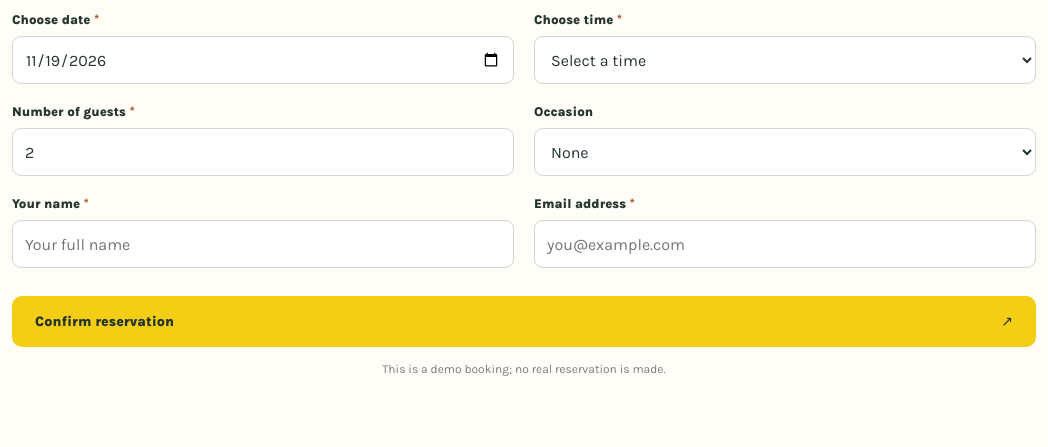
Test: BookingForm › rejects invalid email
Step 1. Type "invalid" into the field labelled "Email address *" → (785, 244), box [534,220,1036,268]
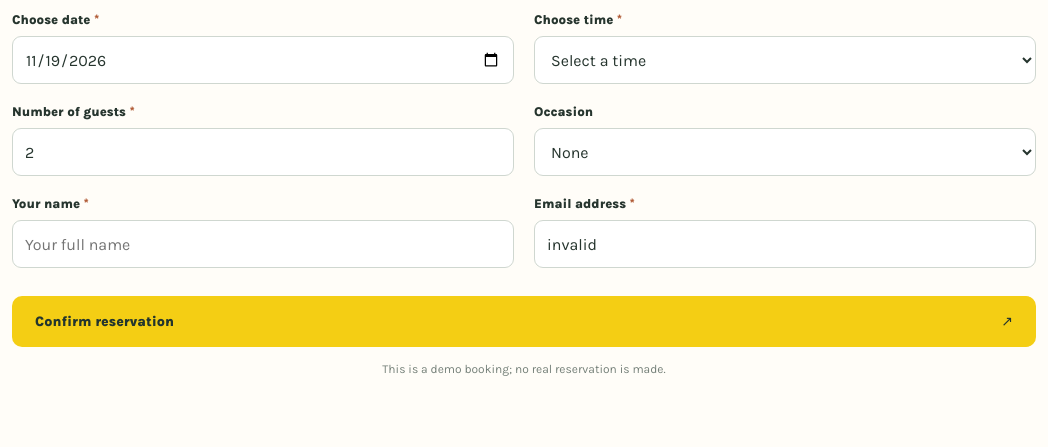
Step 2. Click the button "Confirm reservation ↗" → (105, 322), box [12,296,1036,347]
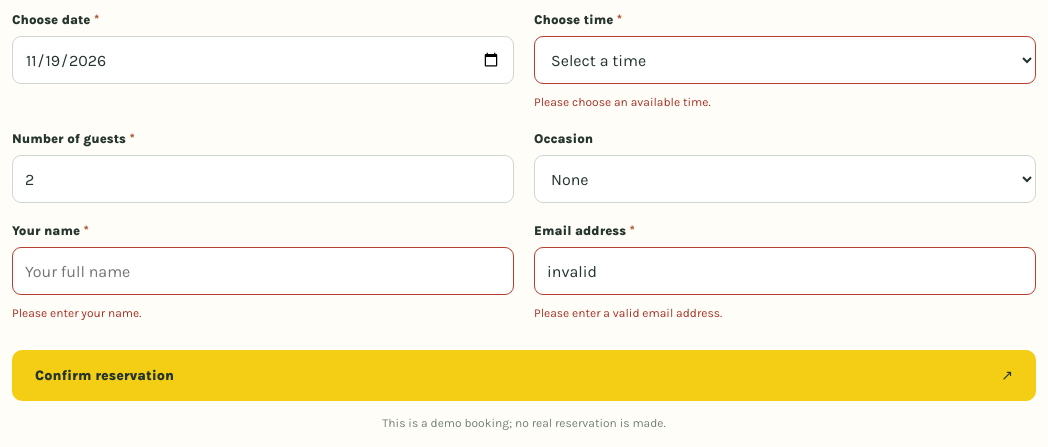
Now the text "Please enter a valid email address." is shown, box [534,306,722,320]
